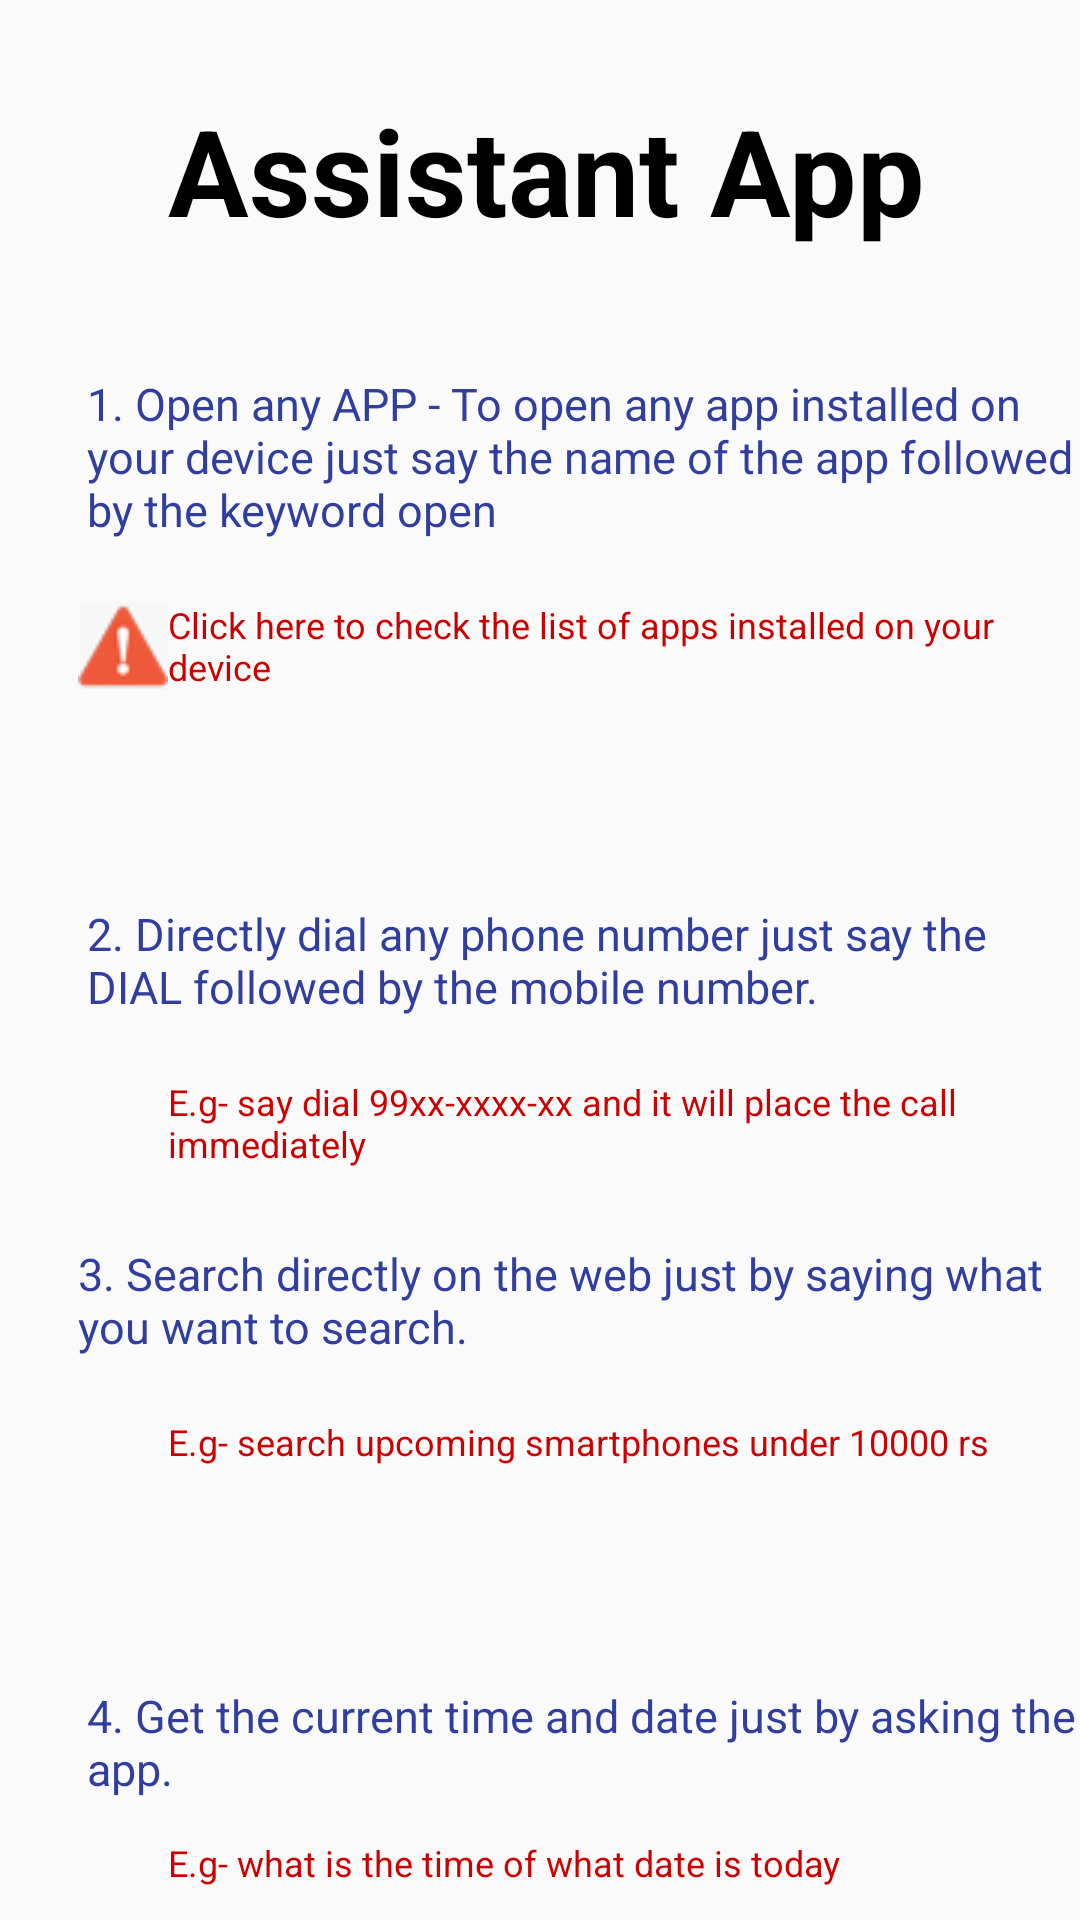

Icons on this 1080w x 1920h Android screen, each with its box as {"left": x1, "top": y1, "right": x2, "bottom": y2}:
alert: {"left": 78, "top": 606, "right": 168, "bottom": 687}
